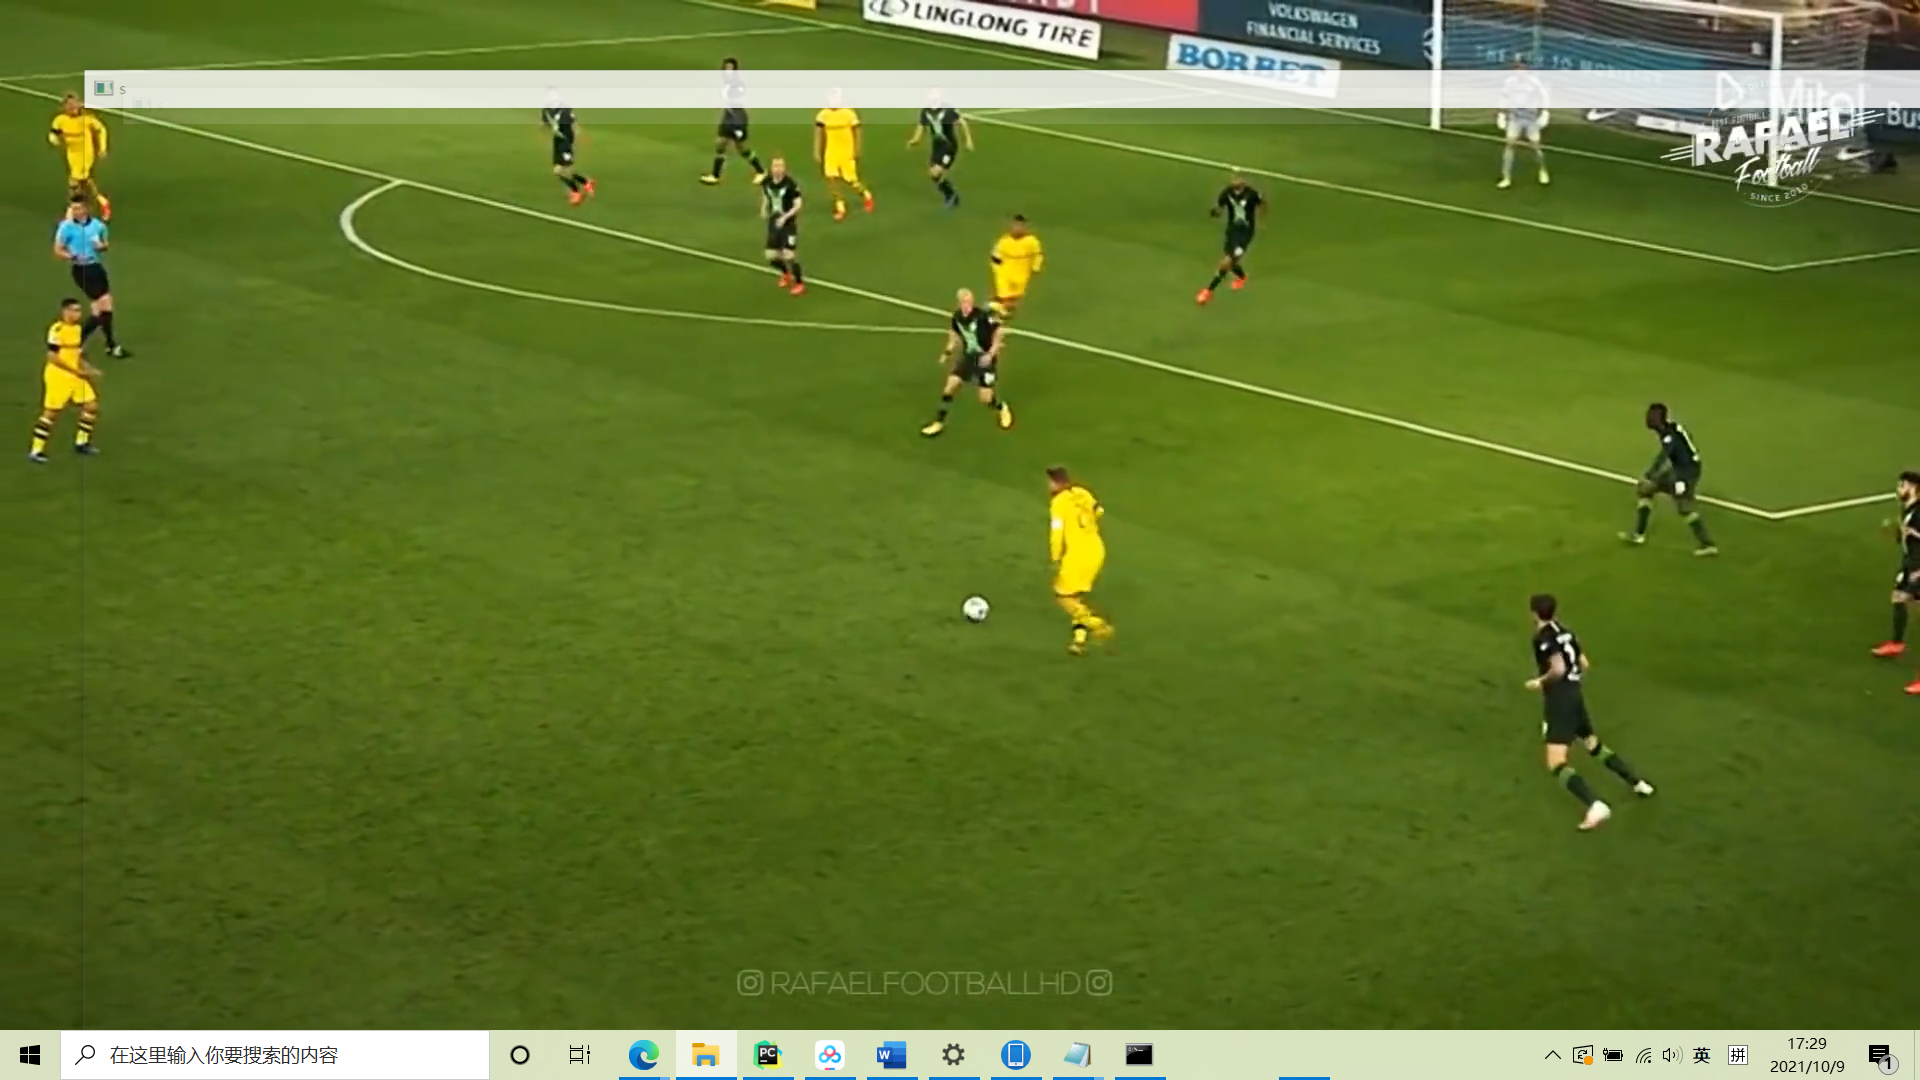ft: (960, 589, 994, 626)
